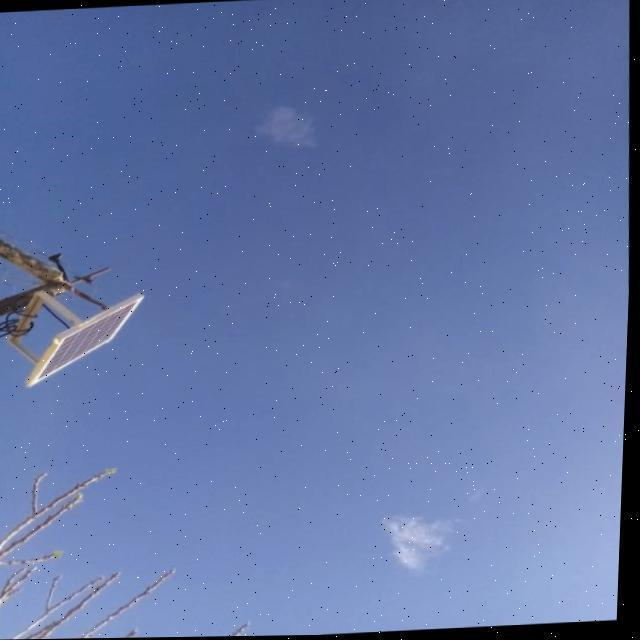Normal Solar Panel: (29, 296, 150, 386)
